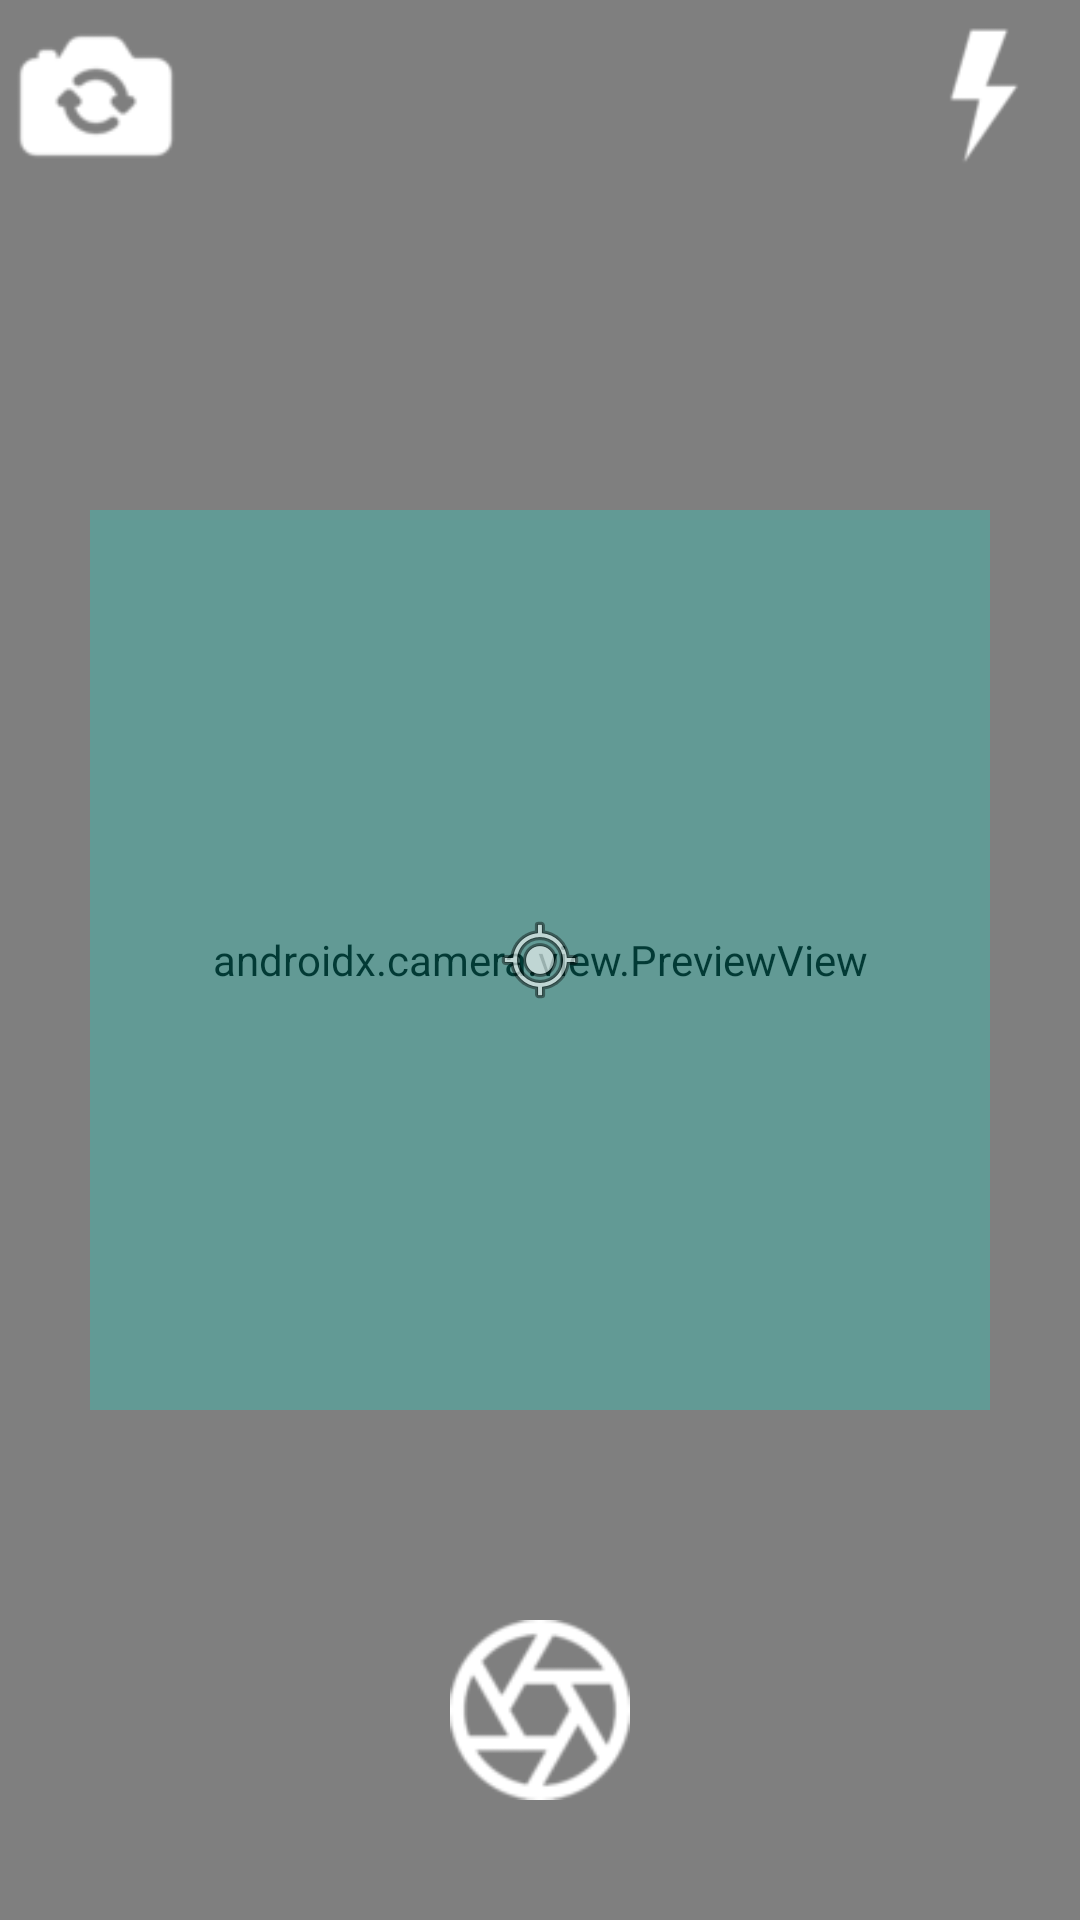

Named icons in this screenshot (1080px x 1920px) and their bounding boxes, (x1, y1, x2, y2):
36shutter: (450, 1620, 630, 1800)
